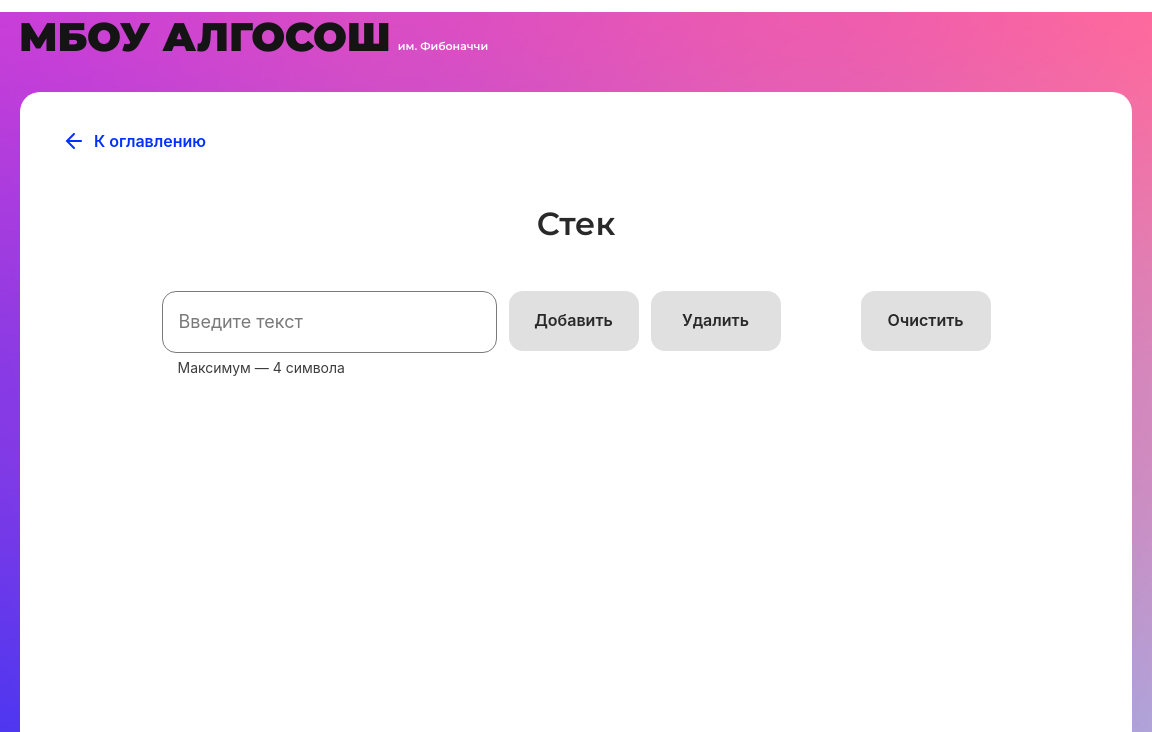
Scenario: testing stack page › adding to stack works properly
This screenshot has width=1152, height=732.
Type "1" into the field with placeholder "Введите текст" at (330, 322), box 162,291 -> 497,353
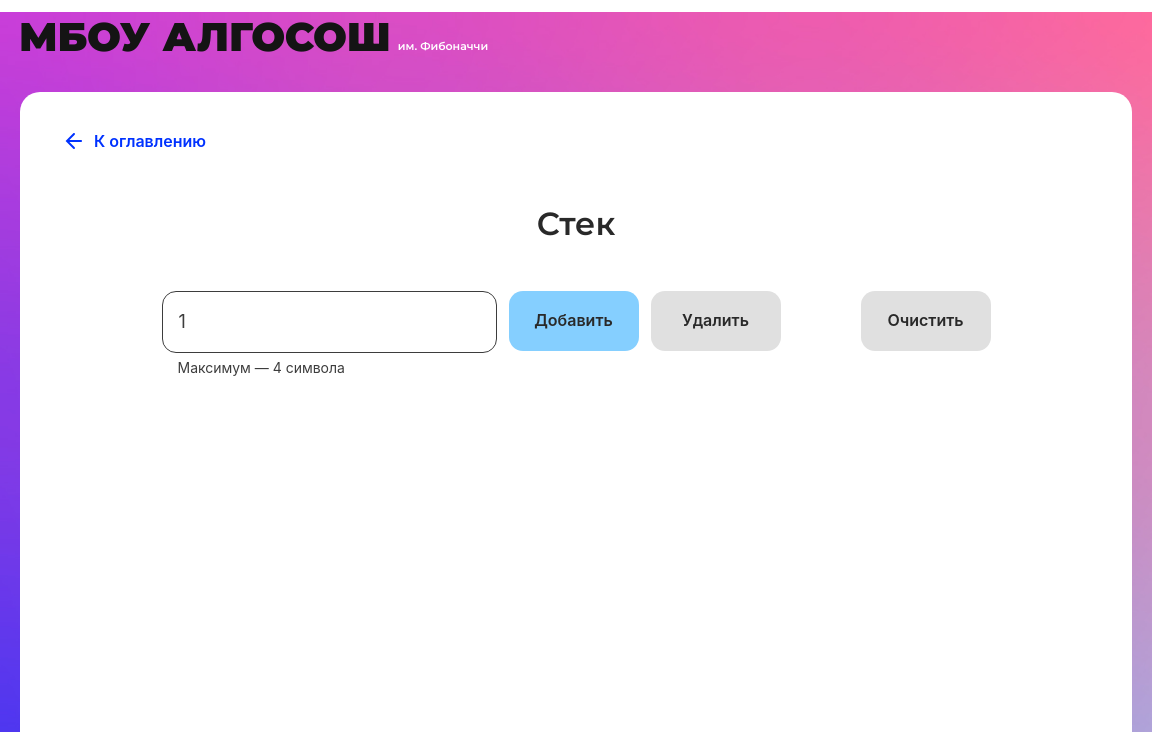
Click the button with test id "addToStackButton" at (574, 321), box 509,291 -> 639,351
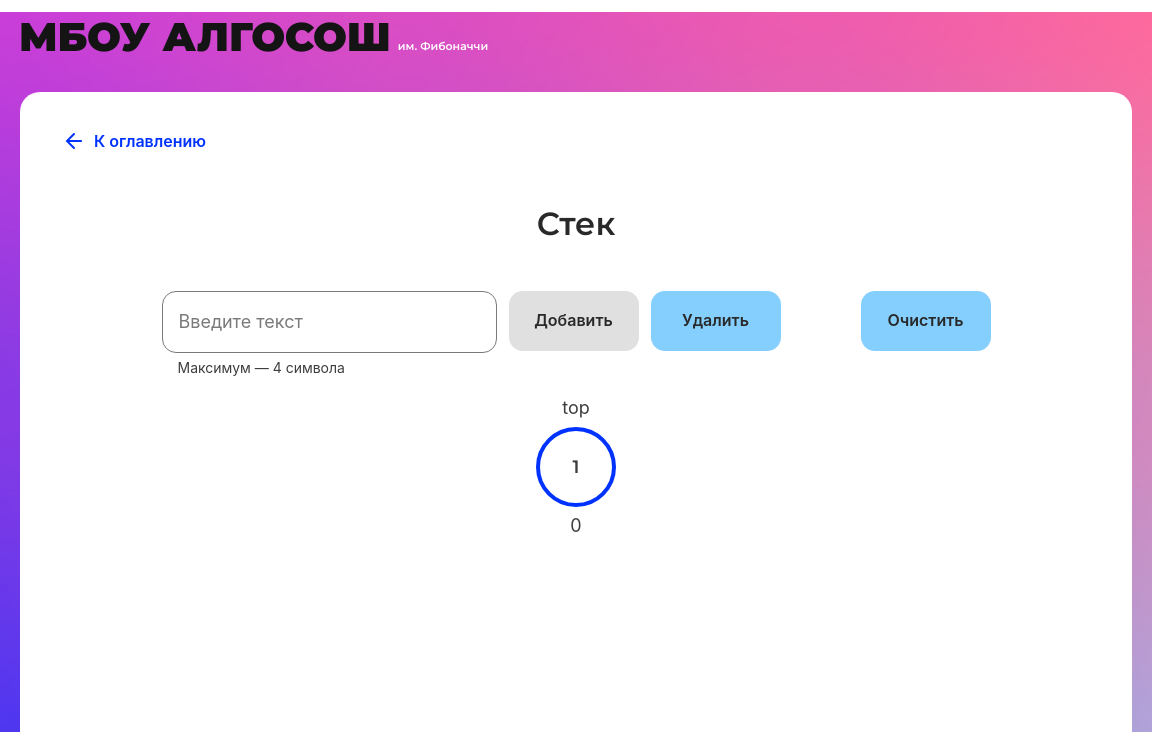
Expected: the text with test id "circle" reads "1", 573,456 -> 580,478
Type "2" into the field with placeholder "Введите текст" at (330, 322), box 162,291 -> 497,353
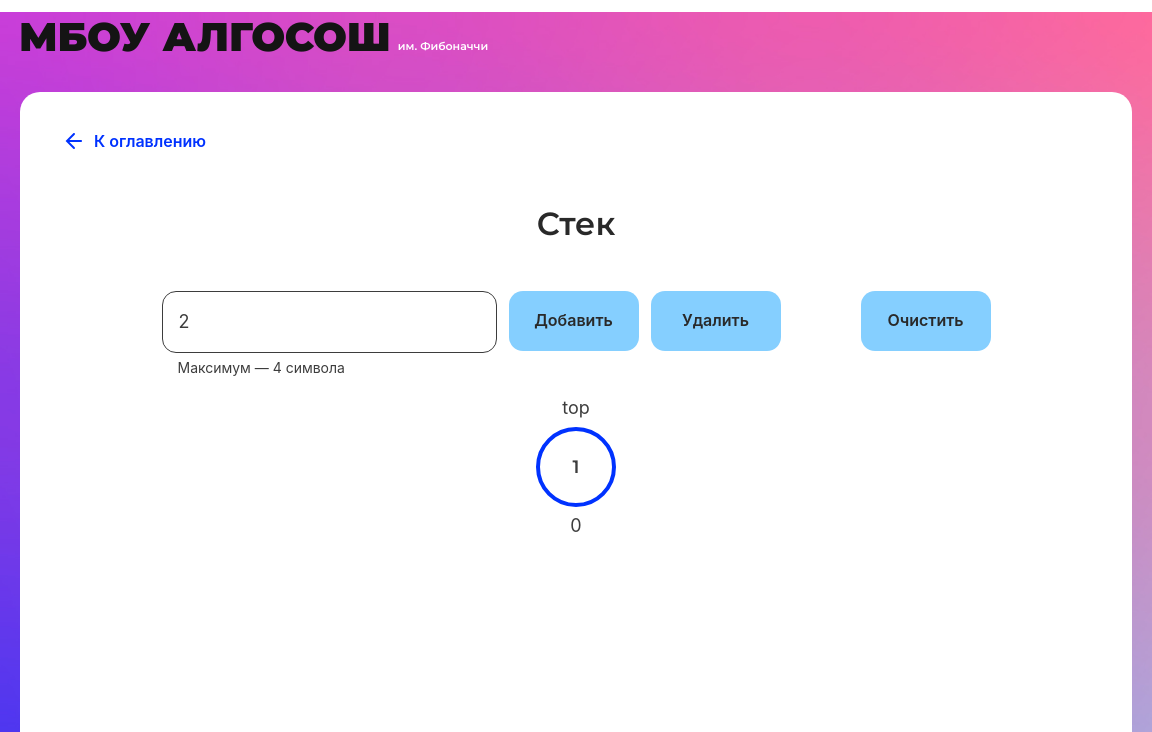
Click the button with test id "addToStackButton" at (574, 321), box 509,291 -> 639,351
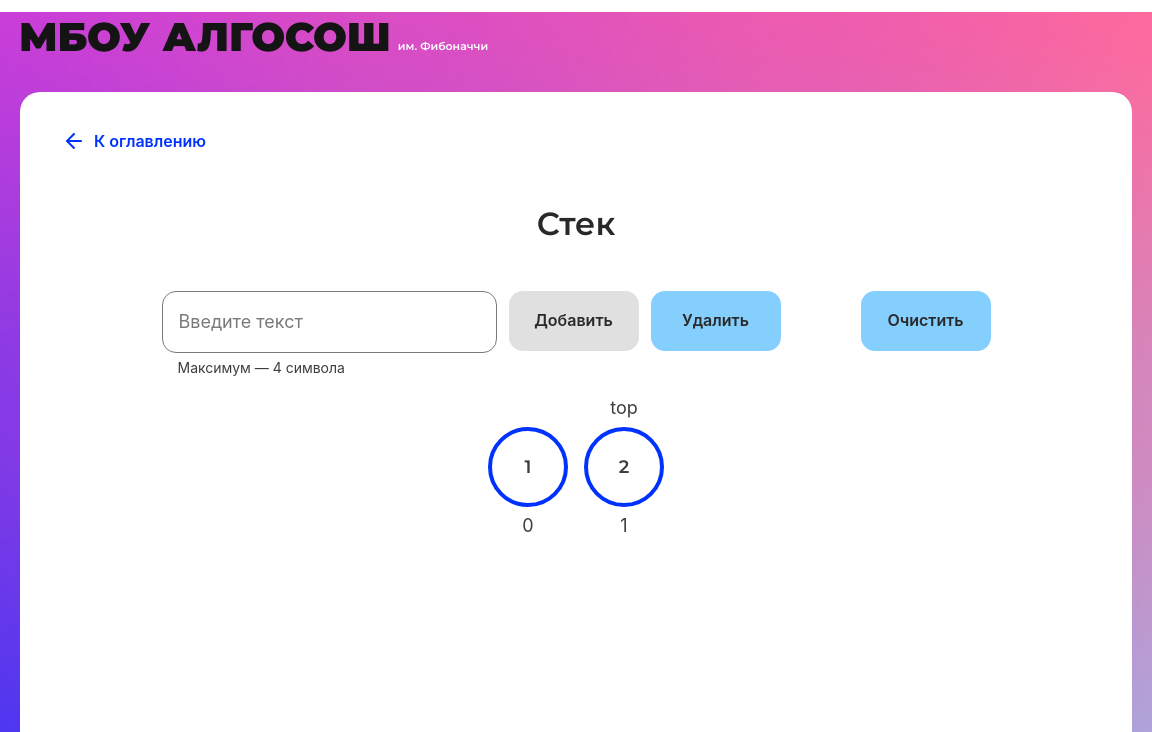
Expected: the text with test id "circle" reads "1", 525,456 -> 532,478
Expected: the text with test id "circle" reads "2", 619,456 -> 629,478
